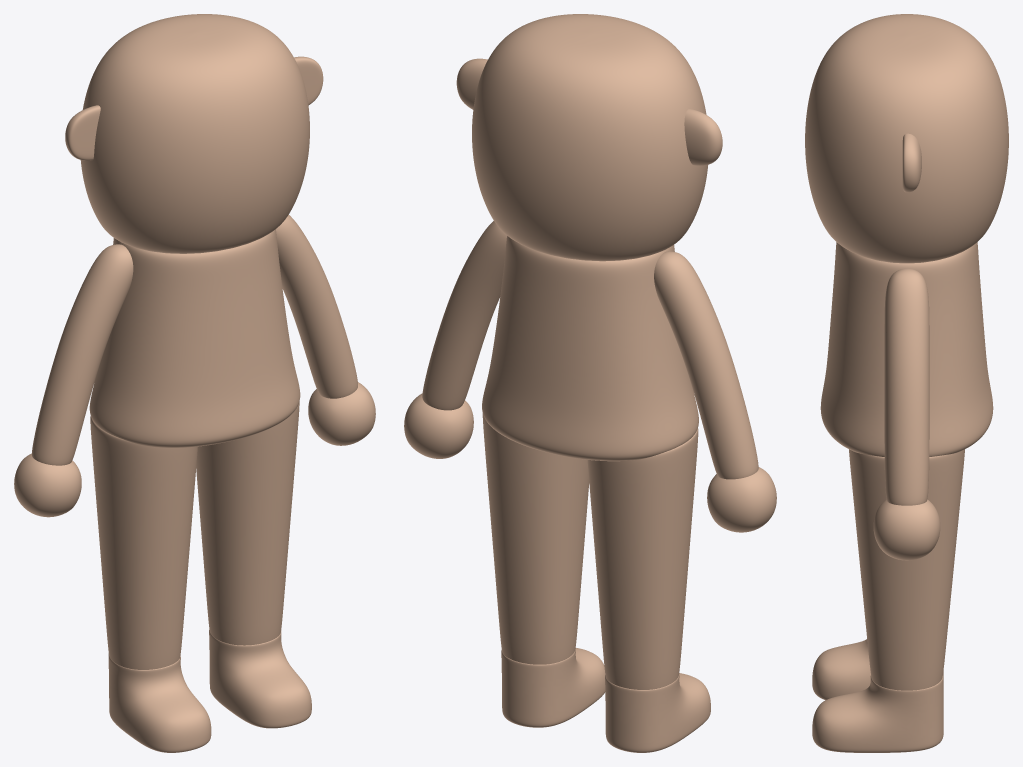
File: MUJER.glb
The picture shows the model from 3 angles, left to right: view 1: azimuth 30°, elevation 25°; view 2: azimuth 150°, elevation 25°; view 3: azimuth 270°, elevation 25°; orthographic projection. The views are drawn at different scales.
Visible parts, largest first — view 1: CABEZA_M, PIERNAS_M, CUERPO2_M, BRAZOS_M, PIES_M, MANOS_M, OREJAS_M.001; view 2: CABEZA_M, PIERNAS_M, CUERPO2_M, BRAZOS_M, PIES_M, MANOS_M, OREJAS_M.001; view 3: CABEZA_M, CUERPO2_M, PIERNAS_M, PIES_M, BRAZOS_M, MANOS_M, OREJAS_M.001.
Boxes of the visible parts, x1,y1,x2,y2 form: CABEZA_M: (80,14,309,253); PIERNAS_M: (90,401,299,669); CUERPO2_M: (89,229,300,447); BRAZOS_M: (32,215,357,465); PIES_M: (108,630,311,752); MANOS_M: (14,382,375,517); OREJAS_M.001: (65,56,323,160); CABEZA_M: (472,14,707,261); PIERNAS_M: (482,413,698,689); CUERPO2_M: (482,236,698,461); BRAZOS_M: (422,221,758,479); PIES_M: (501,648,710,752); MANOS_M: (404,393,776,532); OREJAS_M.001: (456,58,722,165); CABEZA_M: (805,14,1008,263); CUERPO2_M: (820,242,993,456); PIERNAS_M: (849,449,964,690); PIES_M: (812,639,943,752); BRAZOS_M: (884,268,929,505); MANOS_M: (873,499,940,560); OREJAS_M.001: (902,133,921,192).
Size of the model in its own units: 3.58 by 6.54 by 1.78.
